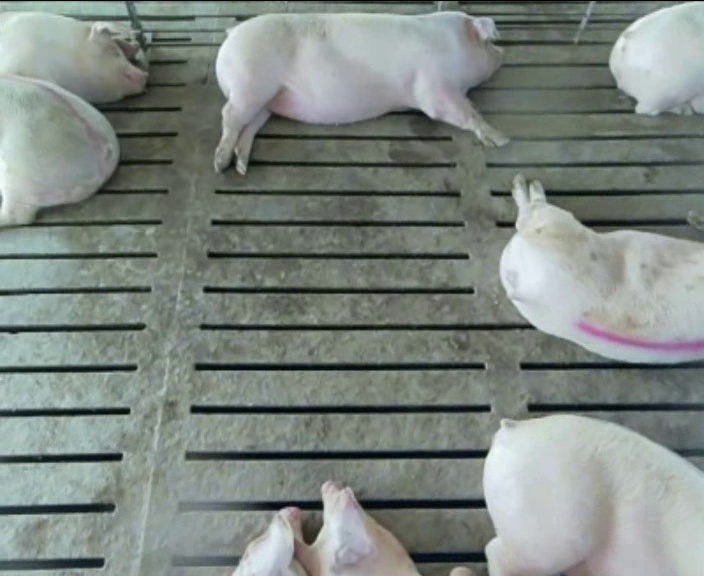pig: (215, 11, 508, 172), (483, 415, 703, 574)
